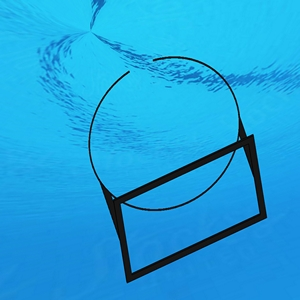circle: (87, 56, 270, 284)
